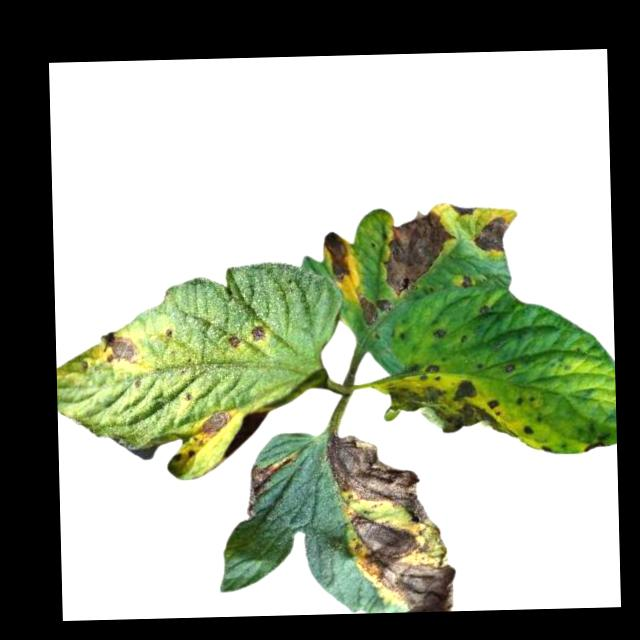Early_blight: (324, 432, 456, 613), (384, 372, 516, 437), (380, 208, 457, 297), (243, 451, 301, 519), (321, 231, 353, 286), (470, 217, 511, 257), (105, 331, 138, 367), (357, 293, 391, 327), (198, 409, 232, 442), (170, 449, 196, 465), (449, 204, 476, 218), (250, 326, 268, 344), (429, 327, 449, 341), (584, 440, 604, 453), (225, 336, 240, 350), (460, 275, 471, 291), (523, 424, 533, 439), (426, 365, 440, 374), (505, 363, 516, 372), (480, 309, 489, 319)
